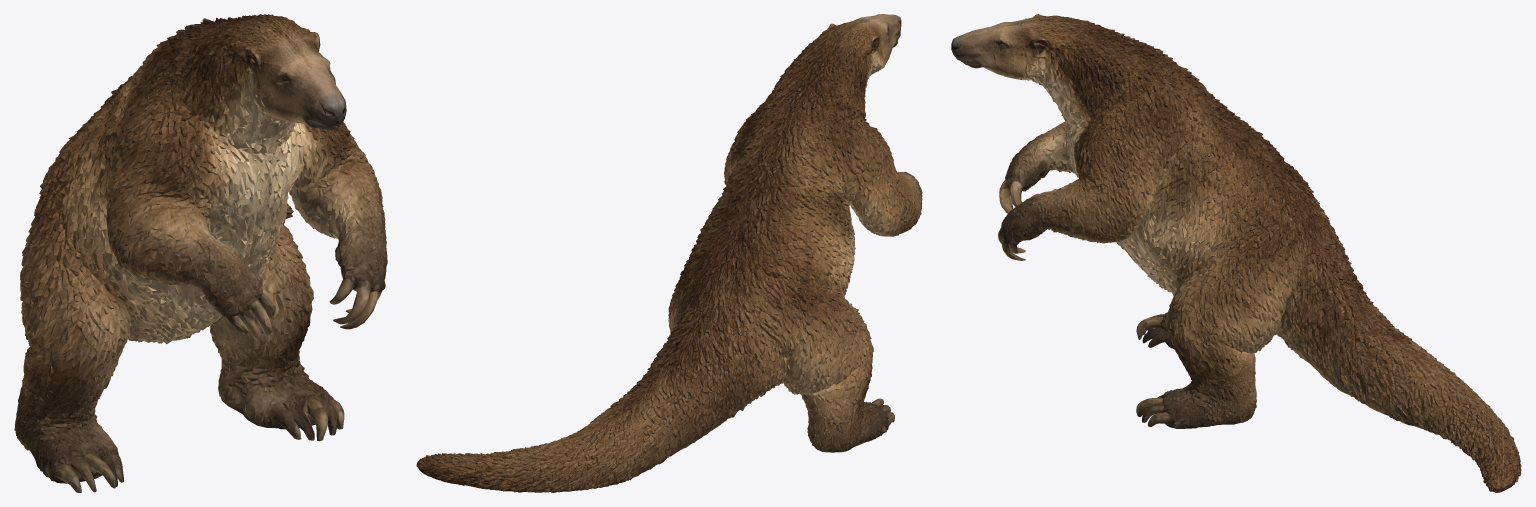
The picture shows the model from 3 angles, left to right: view 1: azimuth 30°, elevation 25°; view 2: azimuth 150°, elevation 25°; view 3: azimuth 270°, elevation 25°; orthographic projection. The views are drawn at different scales.
Visible parts, largest first — view 1: Authored orientation; view 2: Authored orientation; view 3: Authored orientation.
Part boxes in pixels (x1=…): Authored orientation: x1=14, y1=14, x2=387, y2=492; Authored orientation: x1=416, y1=14, x2=922, y2=492; Authored orientation: x1=951, y1=14, x2=1521, y2=492.
Size of the model in its own units: 0.7119 by 0.7183 by 1.03.
1 material, 1 textured.
